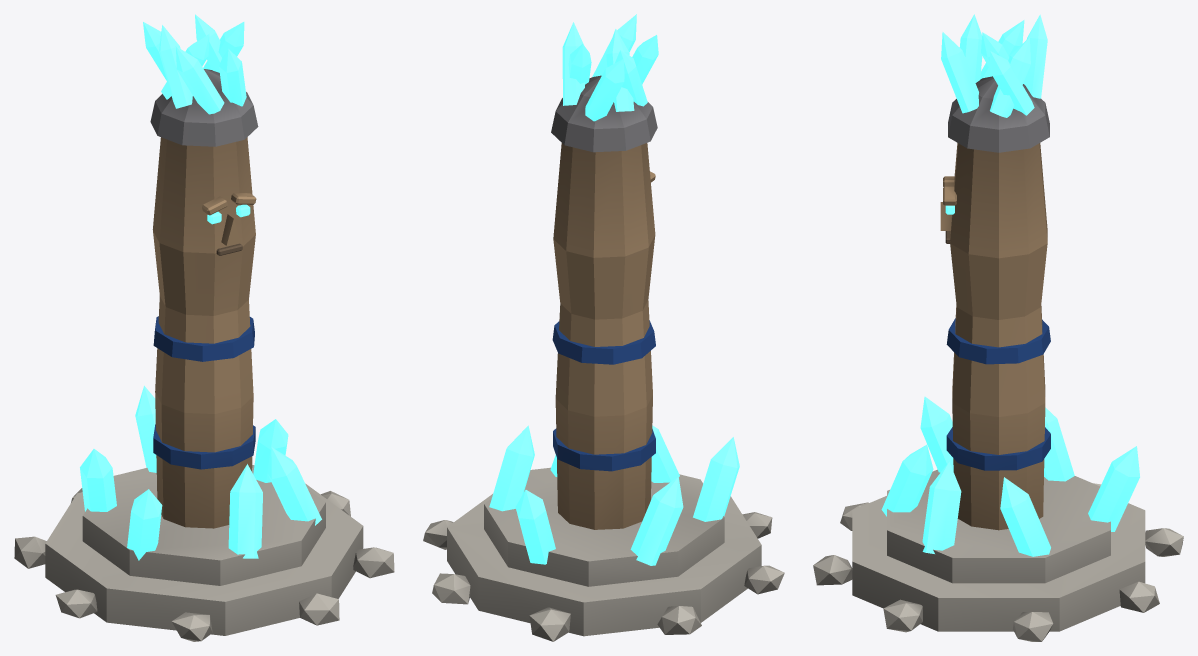
File: idol_krio.glb
The picture shows the model from 3 angles, left to right: view 1: azimuth 30°, elevation 25°; view 2: azimuth 150°, elevation 25°; view 3: azimuth 270°, elevation 25°; orthographic projection.
Parts seen in each view (by area): view 1: idol_krio; view 2: idol_krio; view 3: idol_krio.
Boxes of the visible parts, x1=… form: idol_krio: x1=14, y1=14, x2=394, y2=641; idol_krio: x1=423, y1=14, x2=784, y2=641; idol_krio: x1=813, y1=14, x2=1183, y2=641.
Bounding box in the file's own units: 0.7871 × 1.28 × 0.795.
